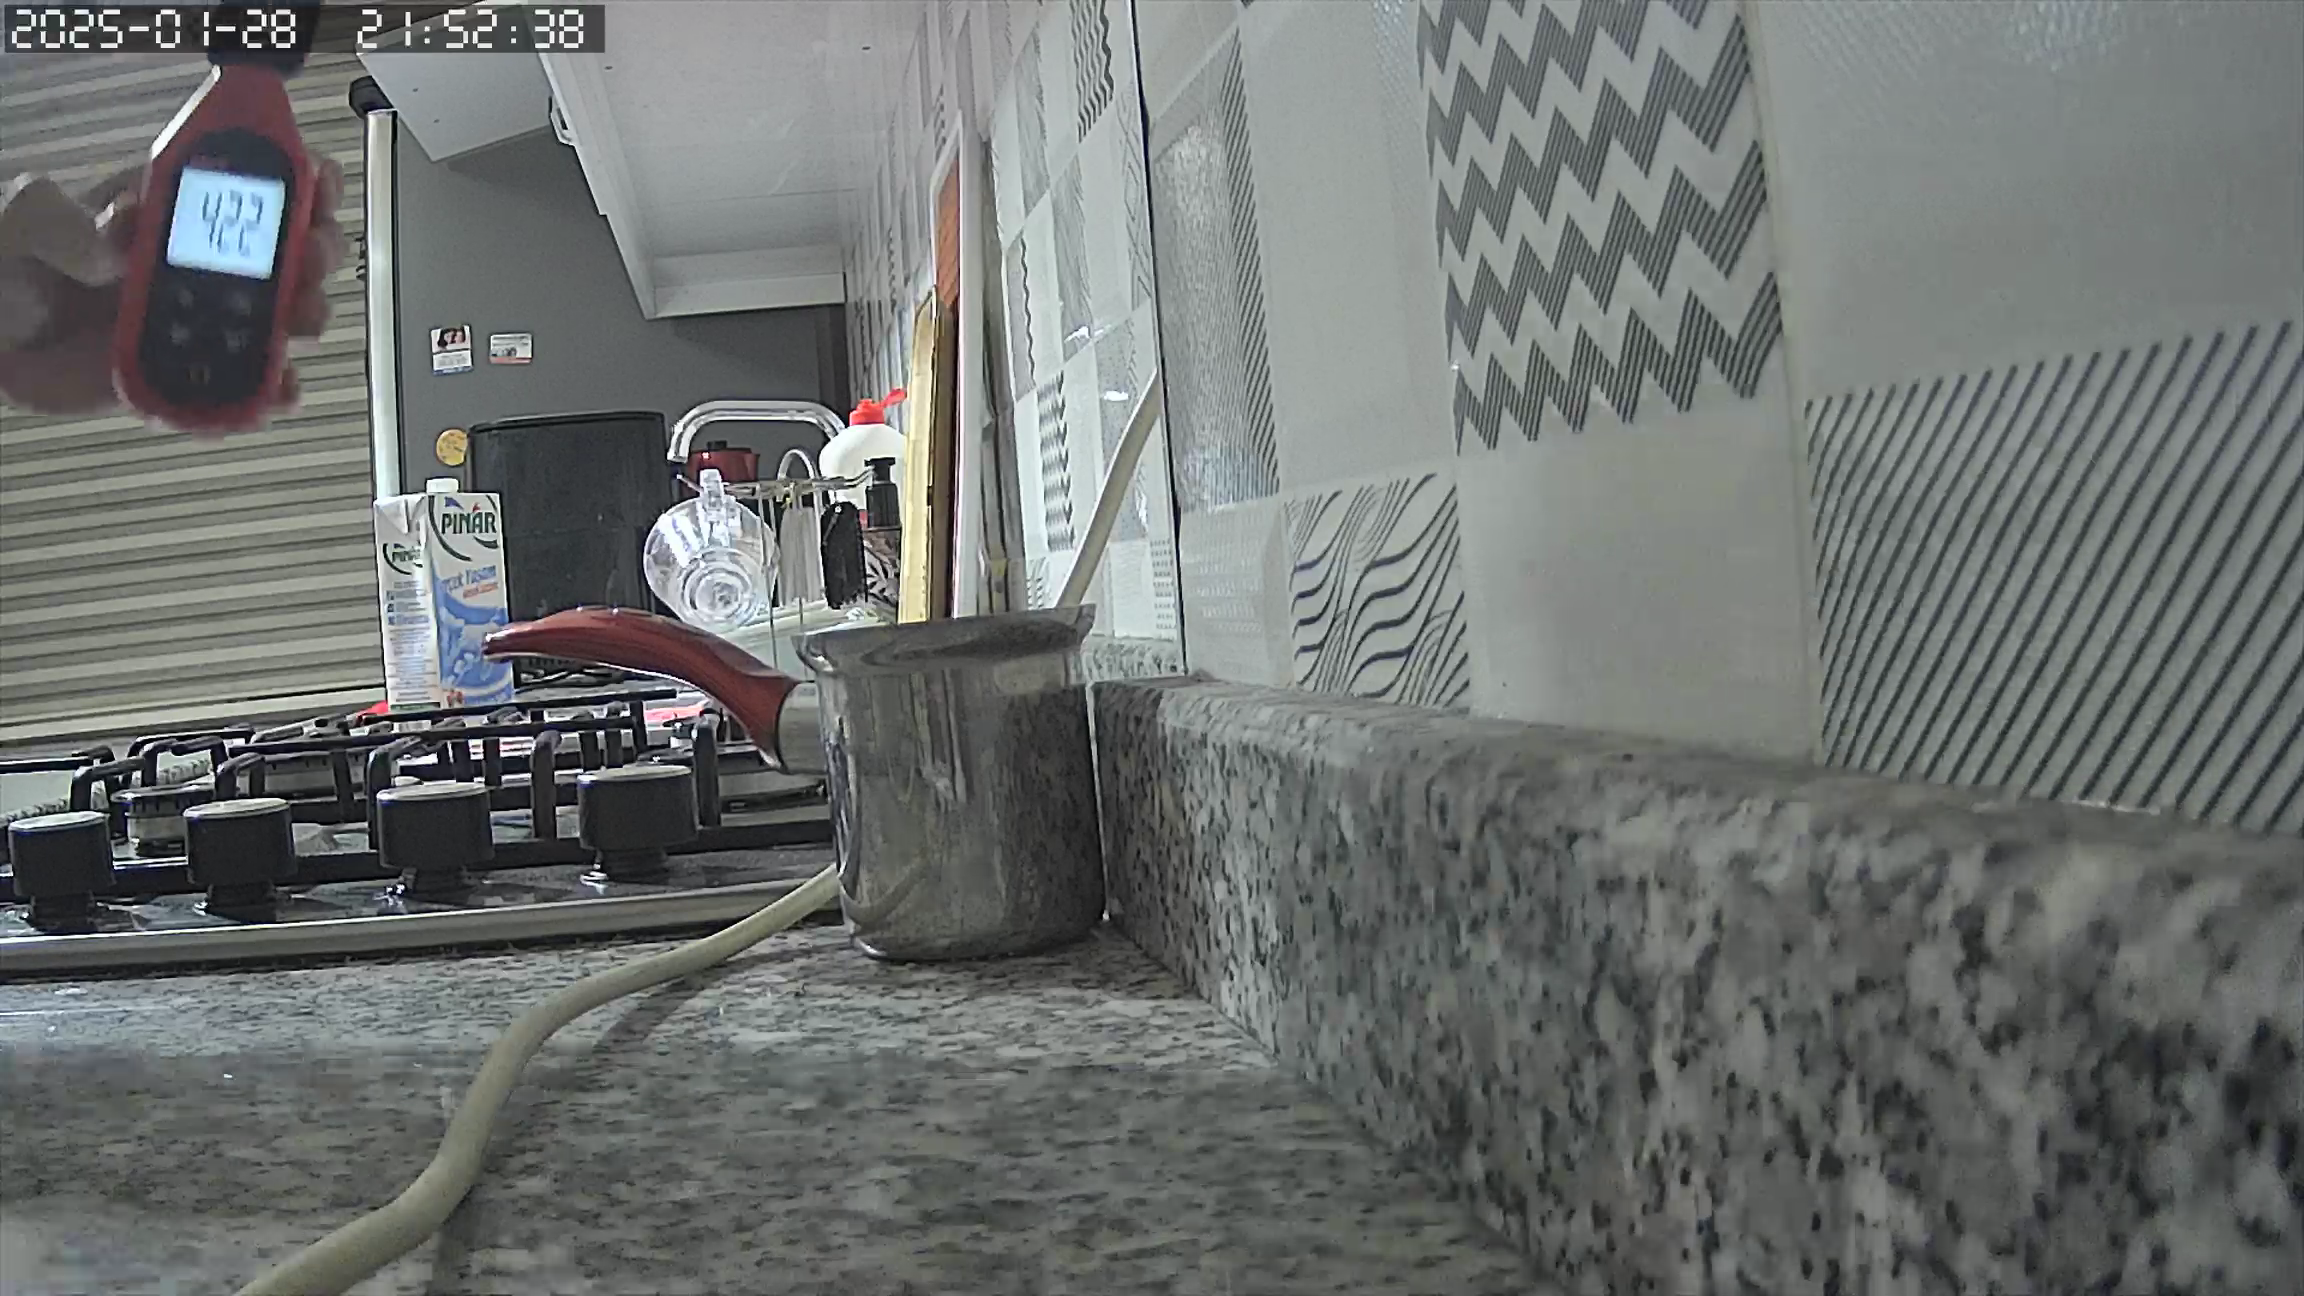screen: (166, 166, 286, 282)
